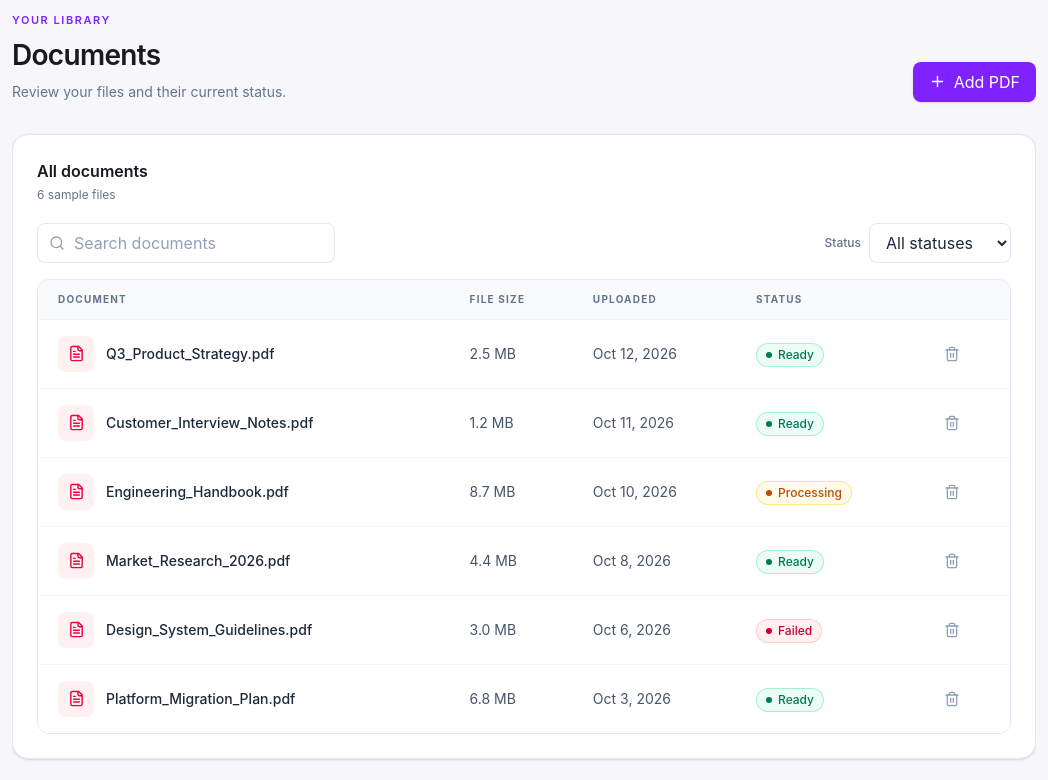
Test: DocumentList on DocumentsPage › clears search and status filters when no documents match
Type "no-such-document" into the search field labelled "Search documents".
click(186, 243); type("no-such-document")  # box [37,223,335,263]
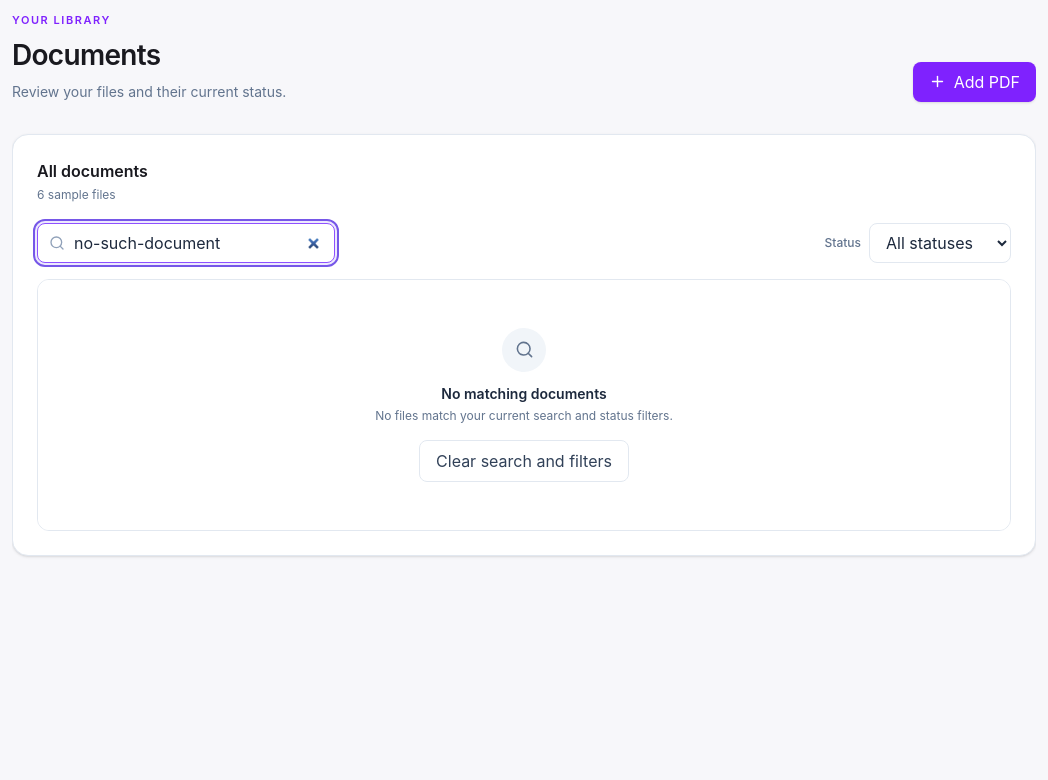
Select "Failed" in the dropdown labelled "Status" at (940, 243), box [869,223,1011,263]
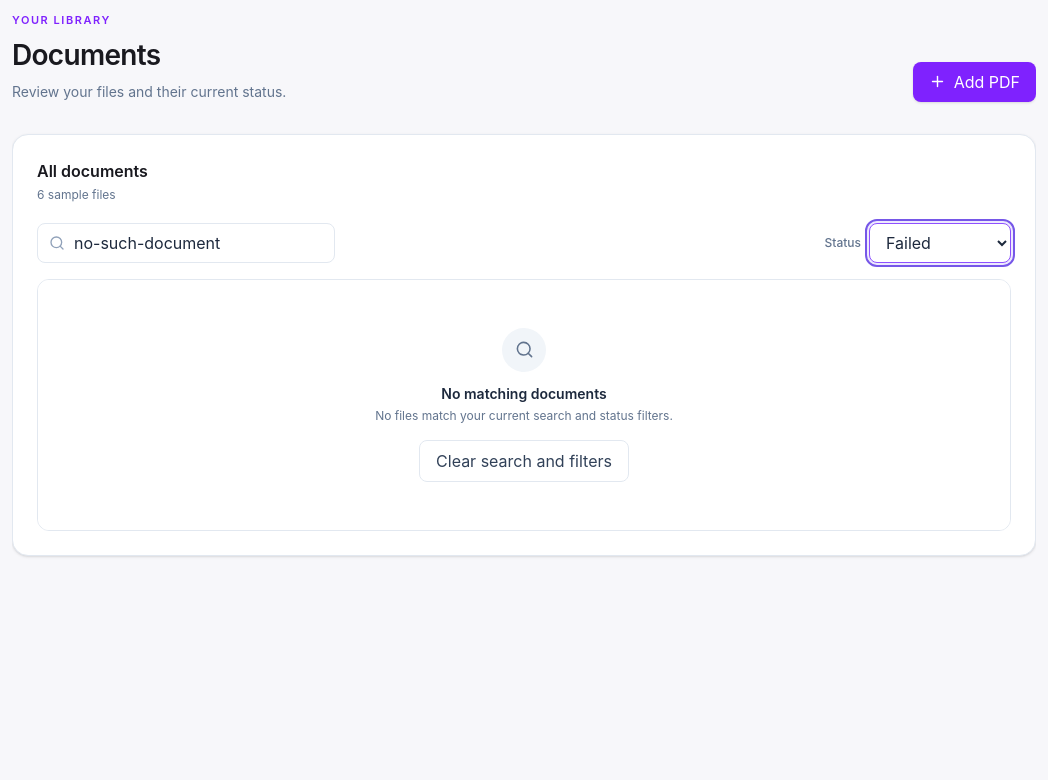
Check: the heading "No matching documents" is shown, box [441,385,607,402]
Check: the text "No files match your current search and status filters." is shown, box [375,408,673,423]
Click the button "Clear search and filters".
click(524, 461)  # box [419,440,629,482]
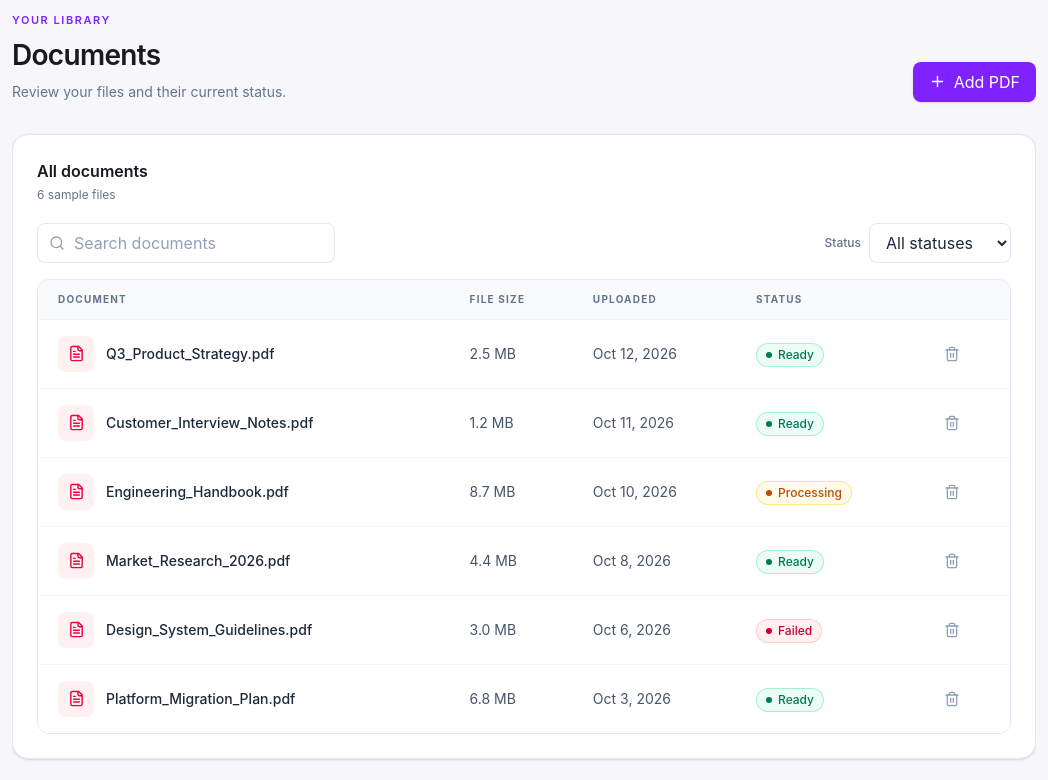
Check: the table is shown, box [38,280,1010,733]
Check: the row "Q3_Product_Strategy.pdf 2.5 MB Oct 12, 2026 Ready" is shown, box [38,319,1010,388]
